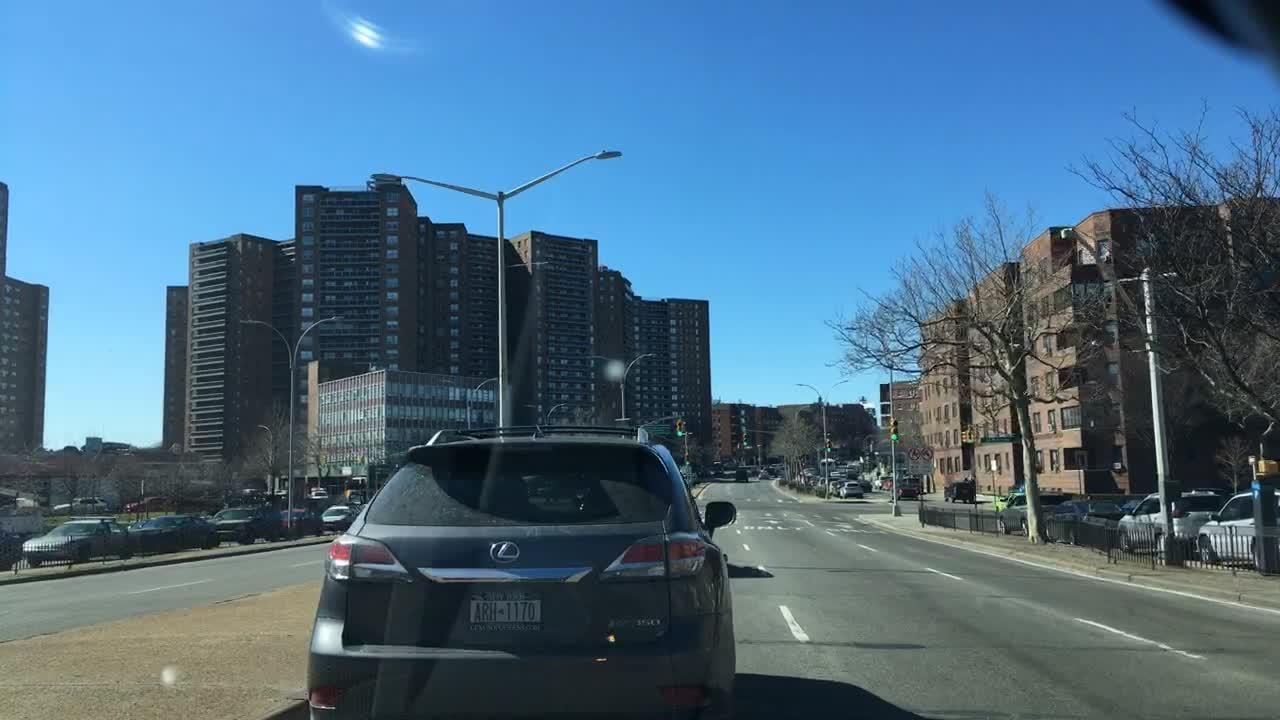lexus: (483, 536, 528, 570)
